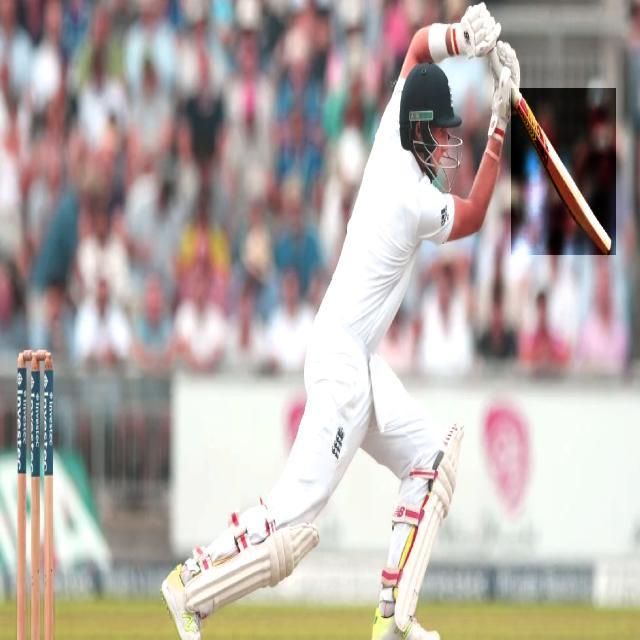bat: (510, 88, 613, 256)
